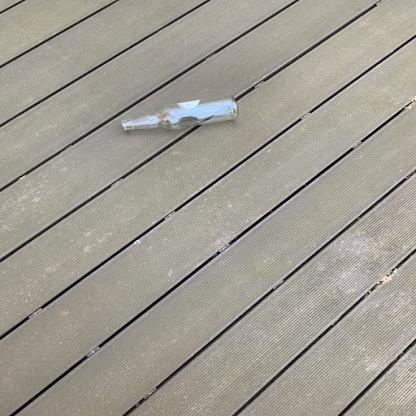trash: (116, 96, 247, 134)
